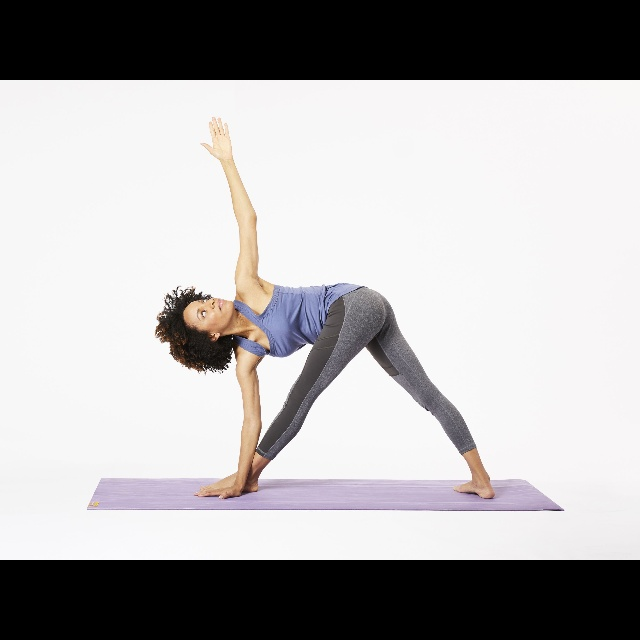Triangle_Pose: (145, 106, 503, 510)
